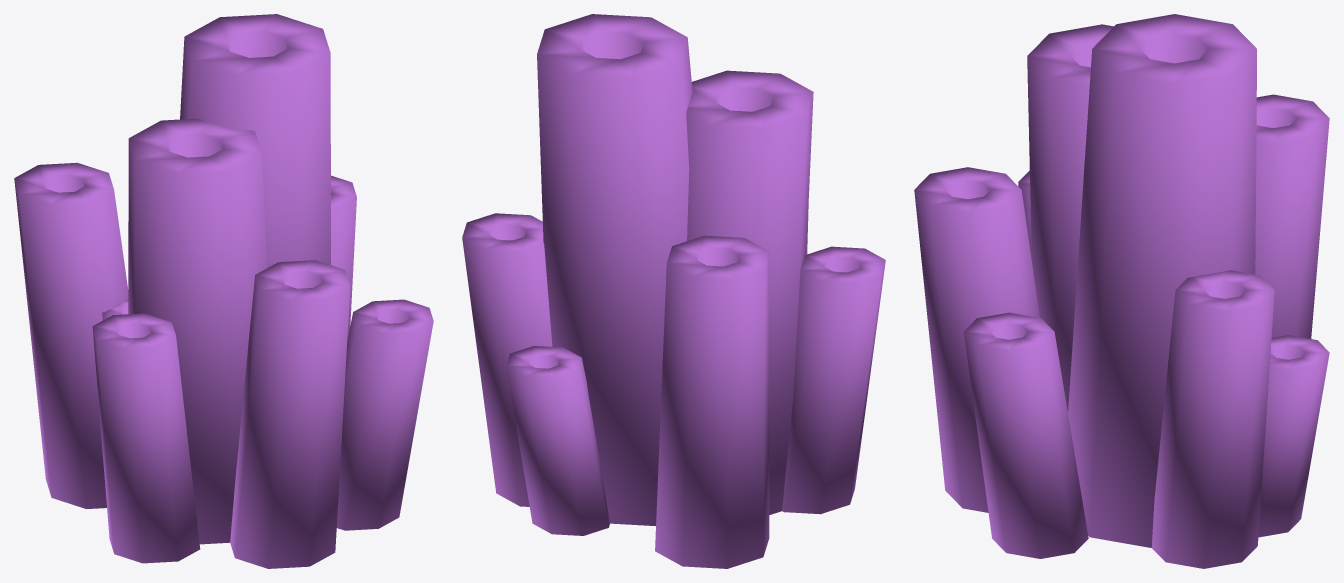
File: Large4.fbx
3 renders of one model, left to right at view 1: azimuth 30°, elevation 25°; view 2: azimuth 150°, elevation 25°; view 3: azimuth 270°, elevation 25°, orthographic. The views are drawn at different scales.
Visible parts, largest first — view 1: Large4; view 2: Large4; view 3: Large4.
Part boxes in pixels (bbox=[...]): Large4: bbox=[14, 14, 433, 568]; Large4: bbox=[462, 14, 885, 568]; Large4: bbox=[914, 14, 1329, 568].
Size of the model in its own units: 5.82 by 7.3 by 5.85.
